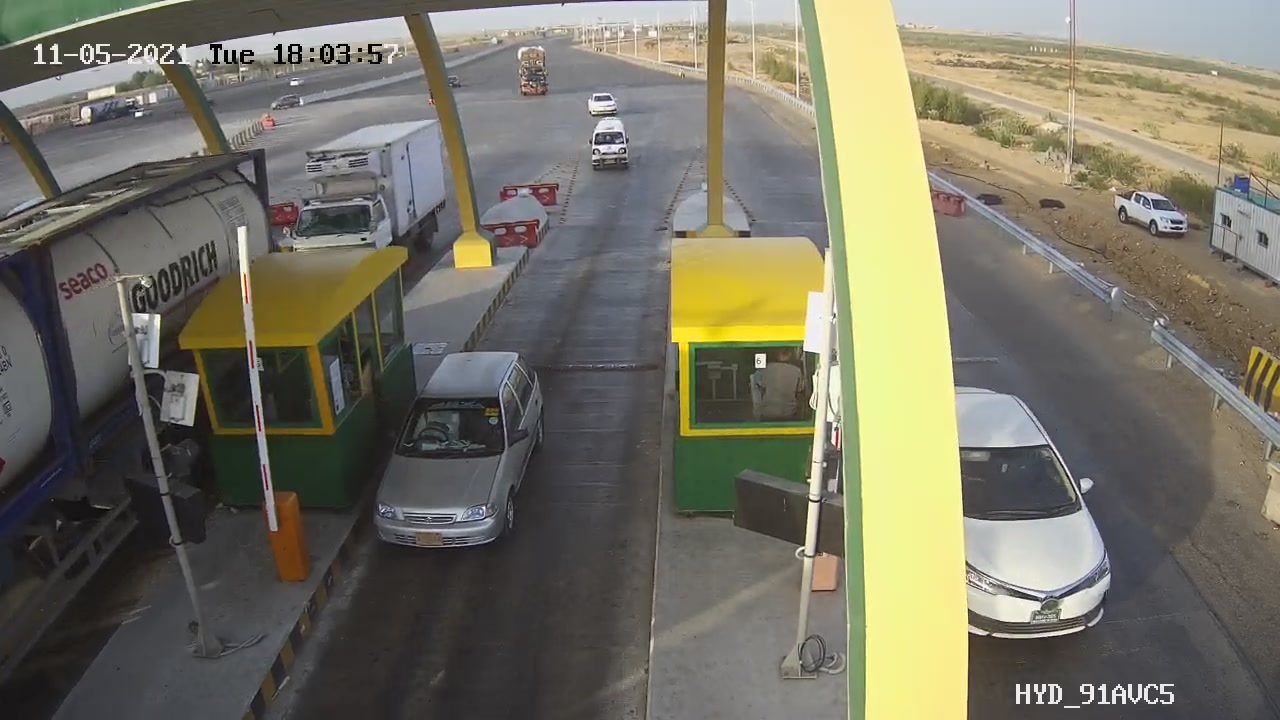F1: (357, 322, 570, 574)
